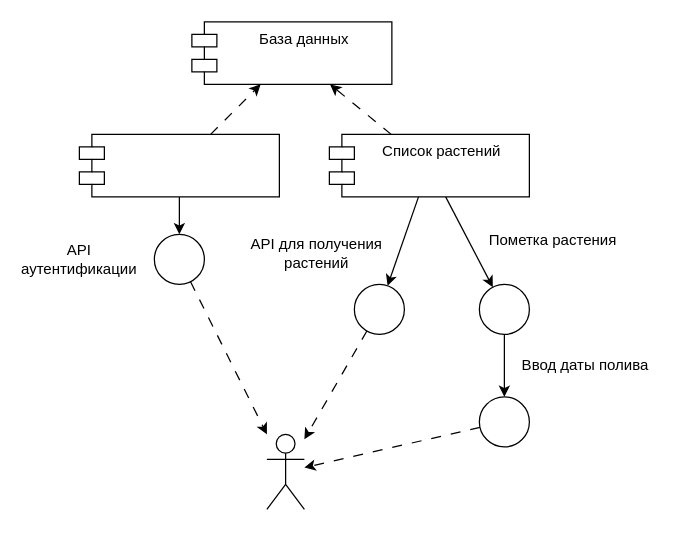
Image size: 688x558. Some labels were removed from this diagram. Each missing label, with the centre of its shape:
Аутентификация: the point at 178,165
Пользователь: the point at 285,471
